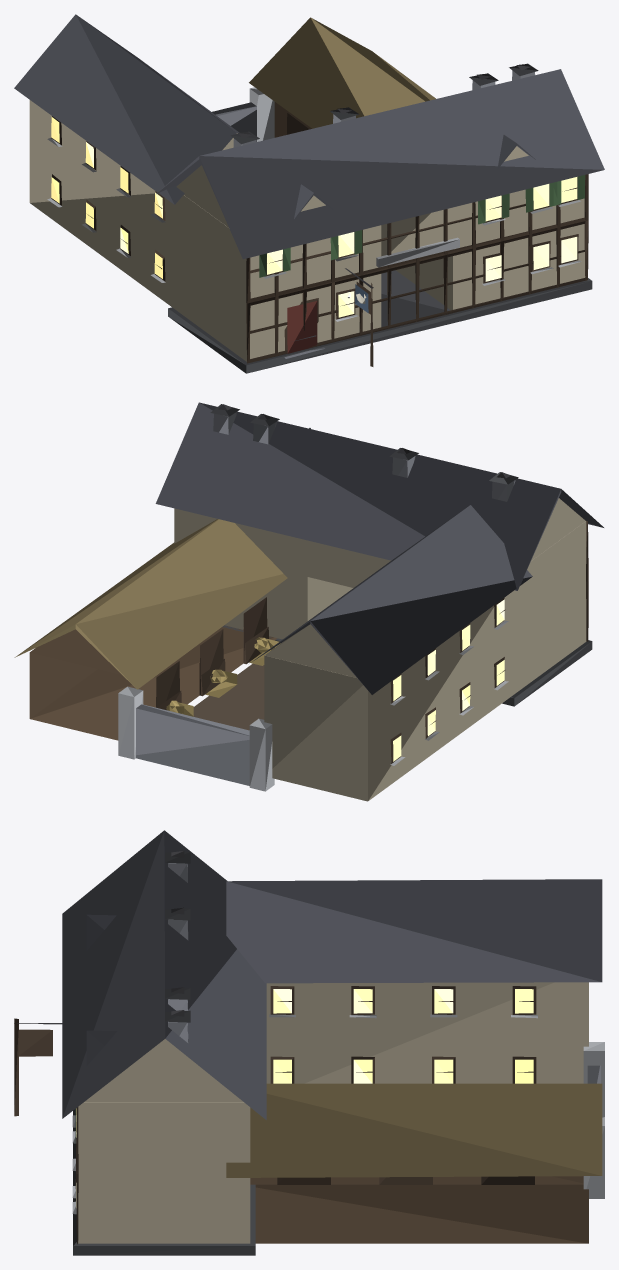
File: prancing_pony_lod1.glb
The picture shows the model from 3 angles, top to bottom: view 1: azimuth 30°, elevation 25°; view 2: azimuth 150°, elevation 25°; view 3: azimuth 270°, elevation 25°; orthographic projection. The views are drawn at different scales.
Parts seen in each view (by area): view 1: prancing_pony_lod1; view 2: prancing_pony_lod1; view 3: prancing_pony_lod1.
Part boxes in pixels (x1,y1,x2,y2): prancing_pony_lod1: (14, 14, 604, 373); prancing_pony_lod1: (14, 402, 603, 801); prancing_pony_lod1: (14, 830, 604, 1255).
Size of the model in its own units: 18.2 by 9.44 by 22.
